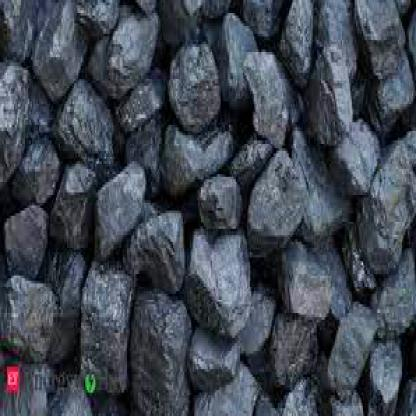Sedimentary_coal: (267, 96, 395, 367), (106, 156, 230, 361)
